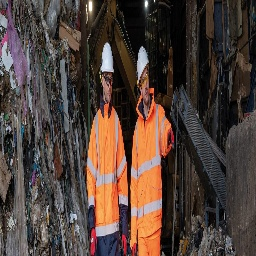helmet: (136, 43, 151, 91), (99, 42, 115, 86)
person: (88, 43, 125, 256), (129, 43, 163, 256)
vest: (89, 98, 126, 252), (130, 109, 162, 256)
